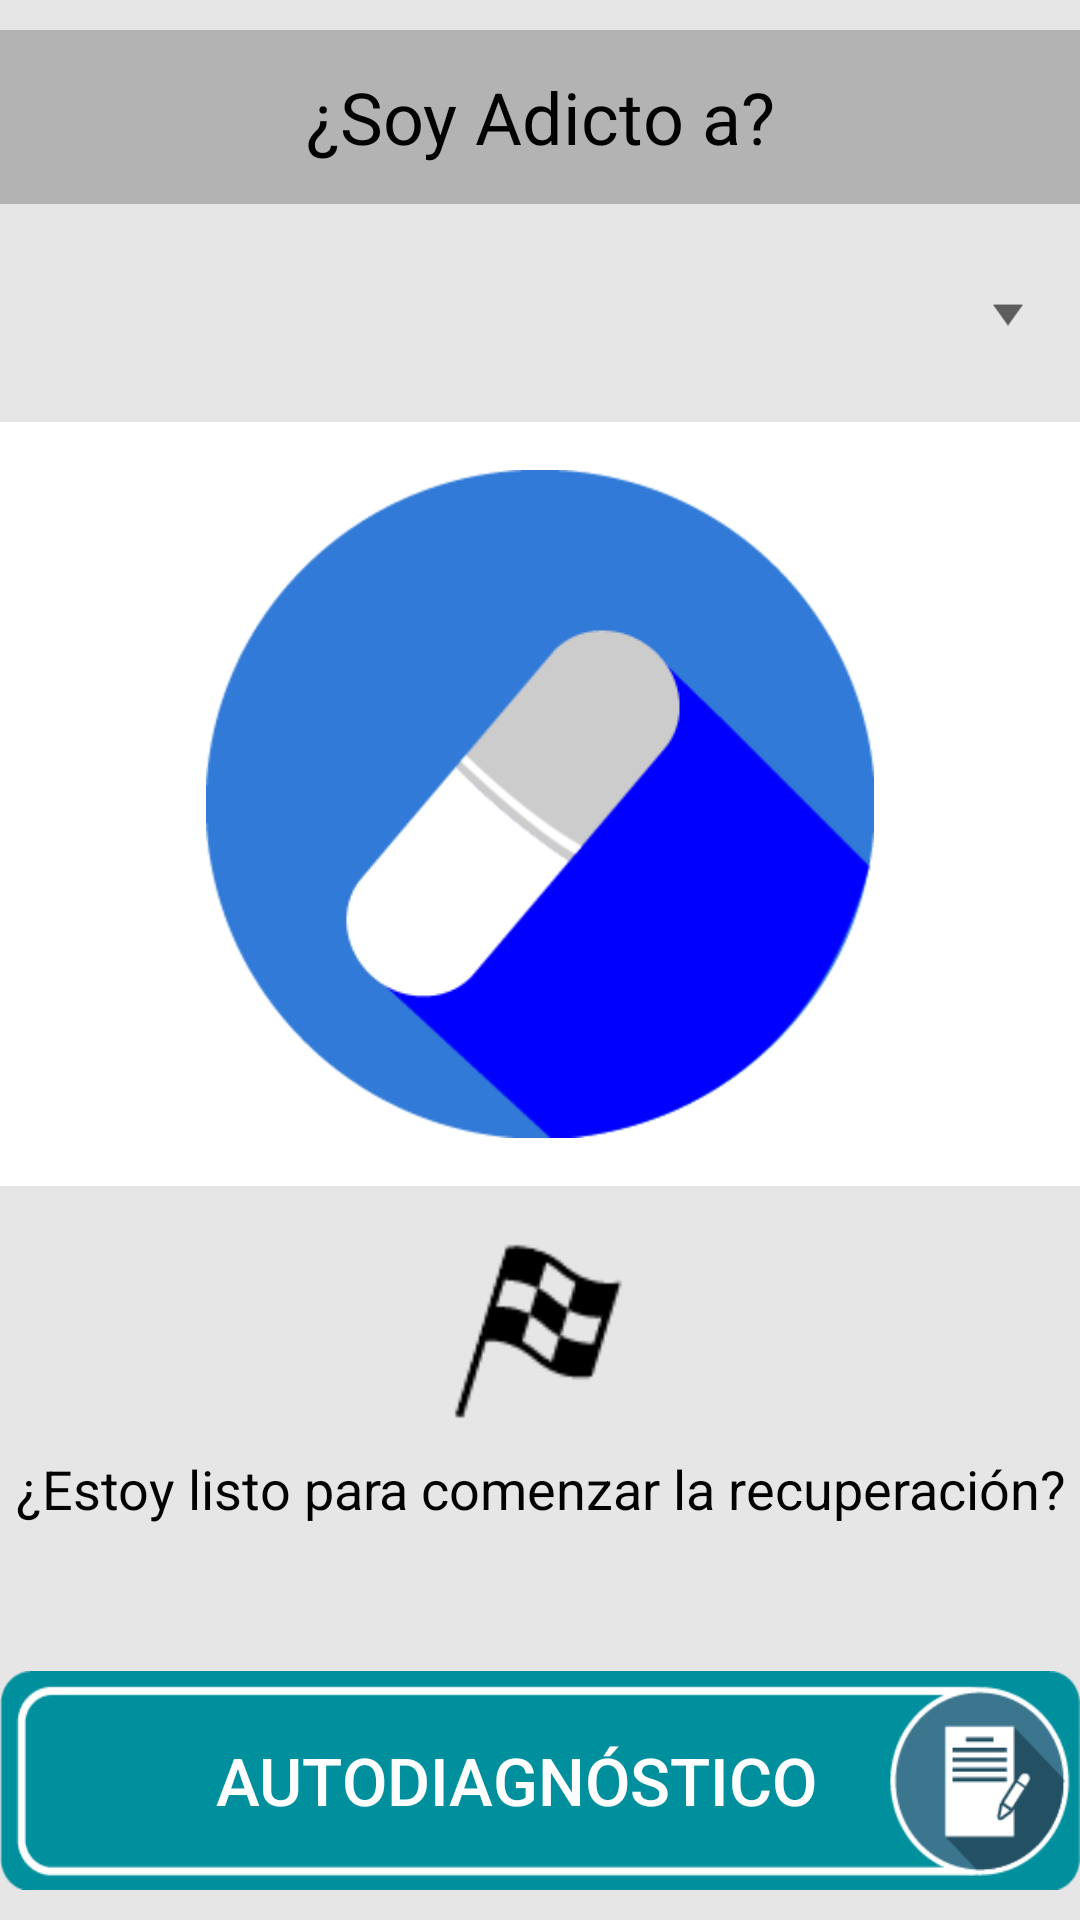

Icons on this 1080×1920 Android screen, each with its box as (x1=x1, y1=y1, x2=x2, y2=y2):
flag: (x1=455, y1=1245, x2=622, y2=1418)
